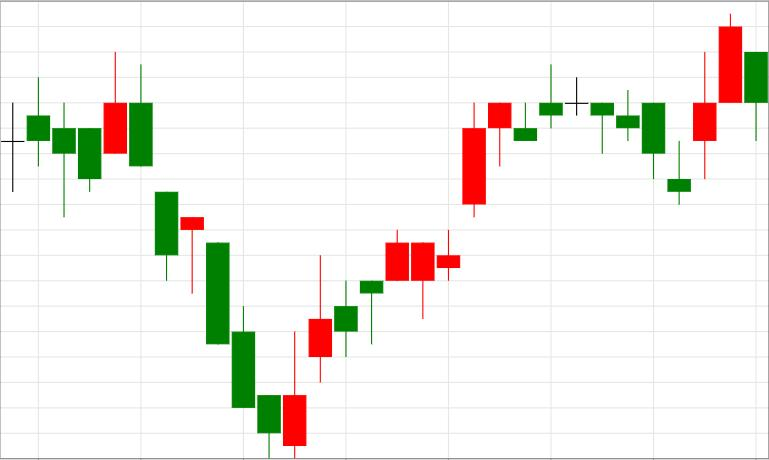hanging_man_fall: (284, 103, 512, 458)
inverse_hammer_rise: (130, 64, 307, 459)
